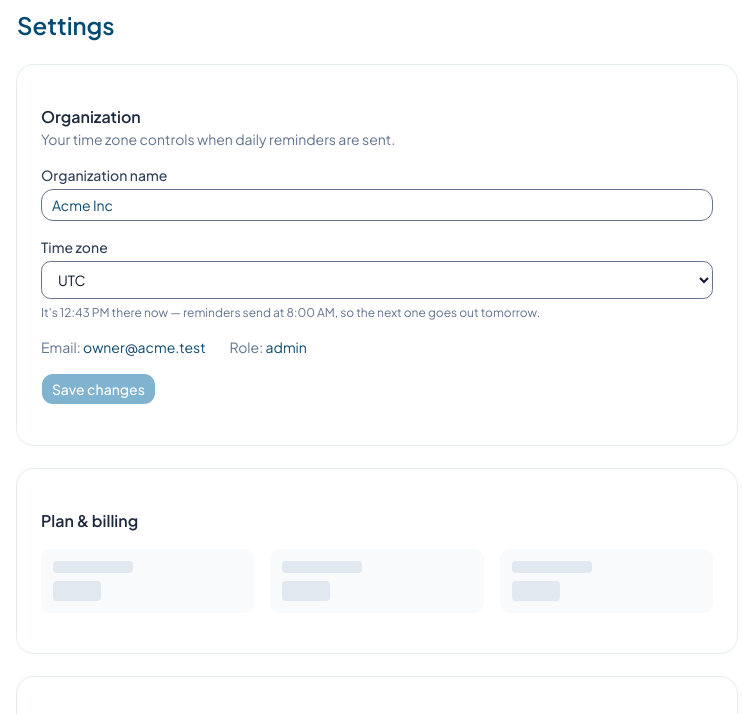
SettingsPage — editable organization (#185) › keeps Save disabled until a field changes
Expected: the button "Save changes" is disabled, x1=41 y1=373 x2=156 y2=405
Replace the text in the field labelled "Organization name" with "Acme Inc 2" at (377,205), box x1=41 y1=189 x2=713 y2=221
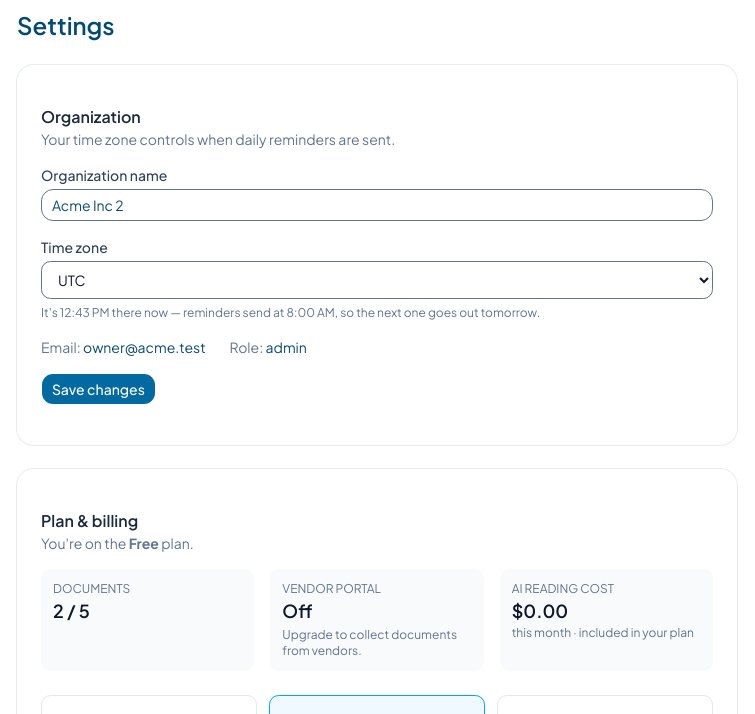
Result: the button "Save changes" is enabled at x1=41 y1=373 x2=156 y2=405
